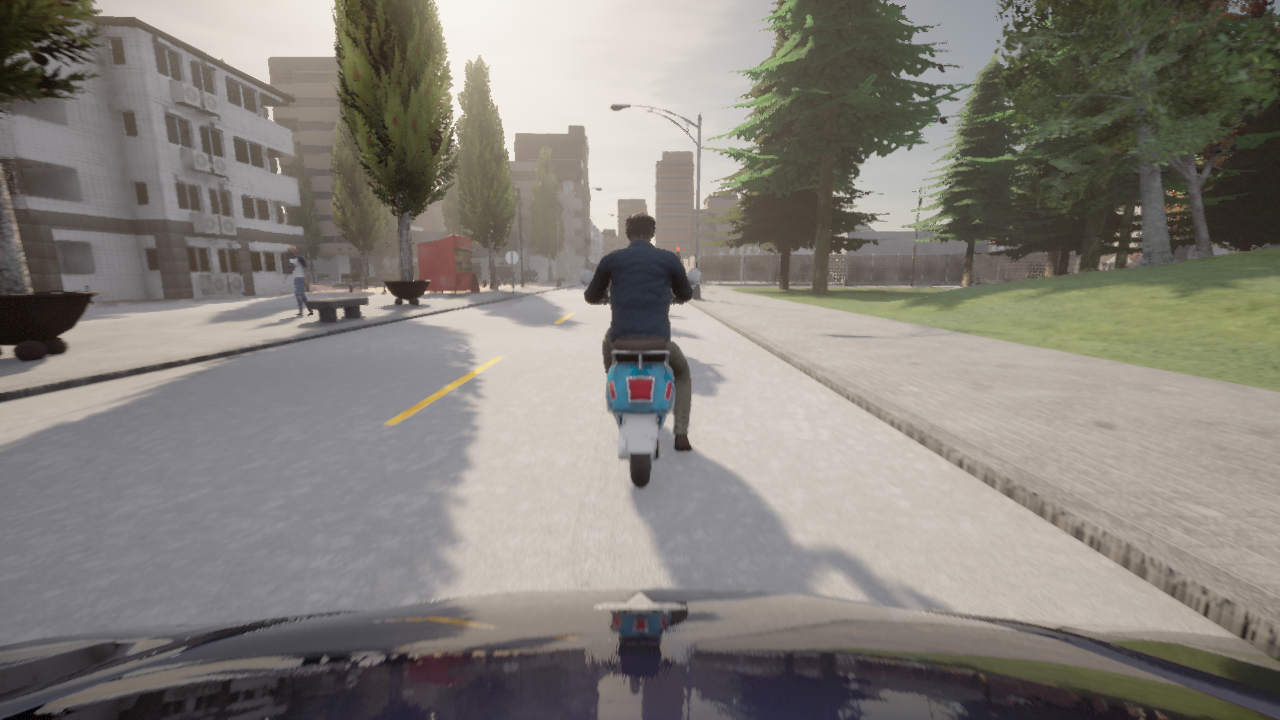cyclist: (0, 588, 1279, 719), (580, 268, 700, 488), (960, 276, 986, 285), (797, 272, 809, 279), (715, 272, 728, 278), (766, 272, 777, 277), (1031, 275, 1037, 278), (747, 276, 748, 278), (756, 275, 757, 277)
pedestrian: (282, 245, 314, 316)
